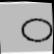no answer: (18, 12, 54, 47)
